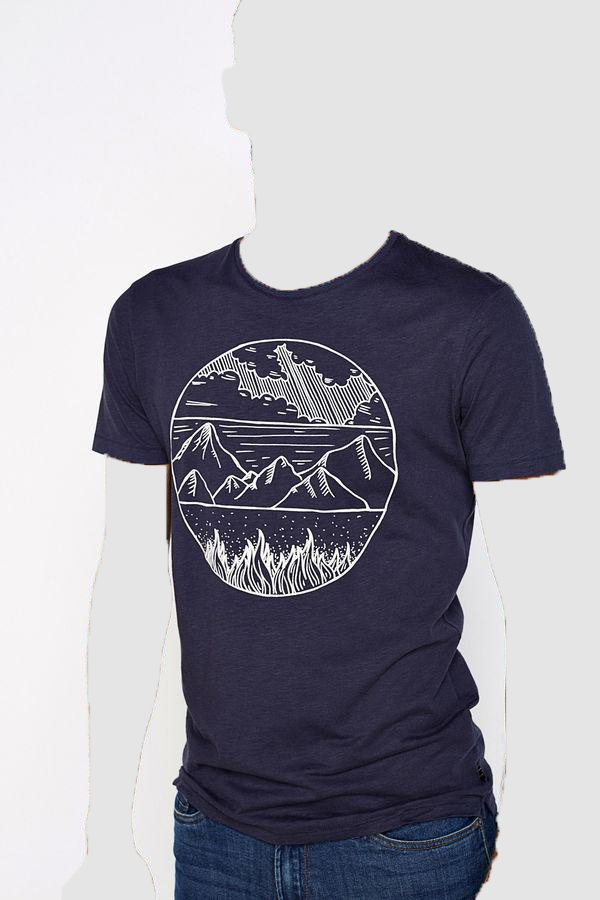teeshirt: (87, 230, 574, 833)
